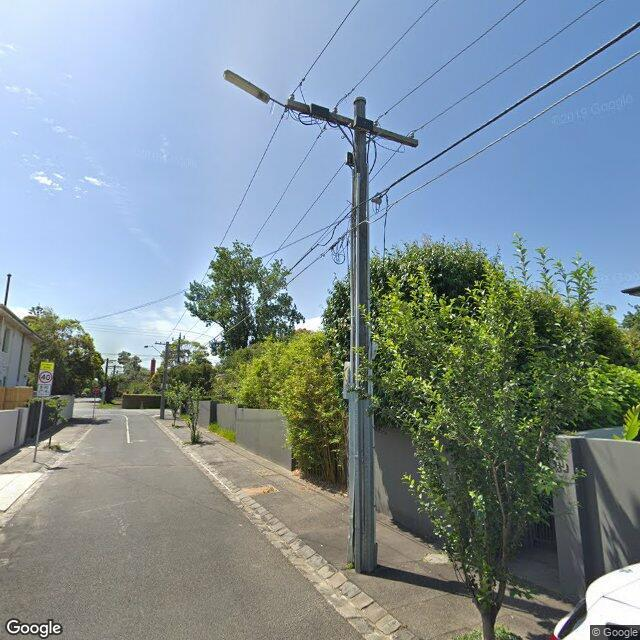HV-transmission: (172, 332, 185, 340)
crossarm: (286, 99, 418, 148), (155, 342, 173, 346), (172, 339, 185, 341), (104, 360, 117, 361), (110, 366, 123, 367)
streetlight: (222, 70, 286, 108), (144, 346, 165, 358)
timber-pole: (347, 97, 378, 575), (160, 342, 169, 419), (178, 337, 180, 362), (106, 358, 108, 379), (114, 365, 116, 375)
